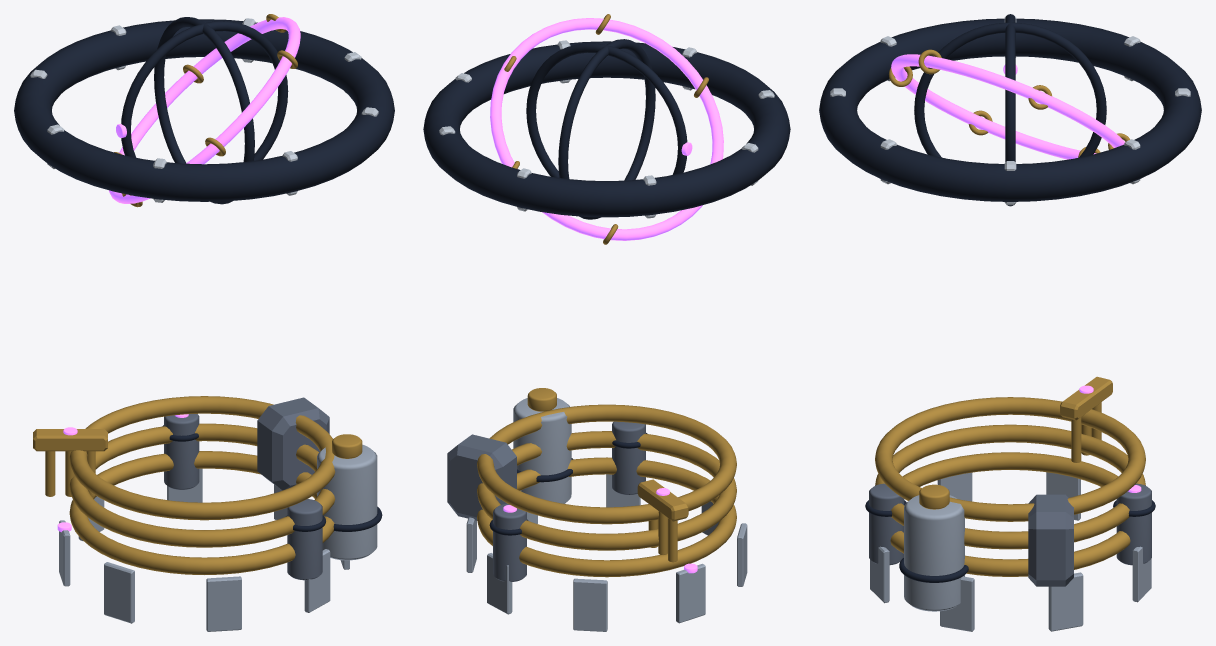
The model's file is tower_singularity_rate_s10.glb.
The picture shows the model from 3 angles, left to right: view 1: azimuth 30°, elevation 25°; view 2: azimuth 150°, elevation 25°; view 3: azimuth 270°, elevation 25°; orthographic projection. The views are drawn at different scales.
Visible parts, largest first — view 1: singularity_horizon_torus, singularity_stem_coil2, singularity_stem_coil1, singularity_stem_coil0, singularity_coolant_tank, singularity_halo_b_ring, singularity_stem_junction, singularity_core_cage_b, singularity_core_cage_c, singularity_stem_cap4.363323129985824, singularity_stem_cap1.9198621771937625, singularity_stem_fin6 (+6 smaller); view 2: singularity_horizon_torus, singularity_stem_coil2, singularity_stem_coil1, singularity_stem_coil0, singularity_halo_b_ring, singularity_coolant_tank, singularity_stem_junction, singularity_core_cage_b, singularity_core_cage_c, singularity_stem_cap1.9198621771937625, singularity_stem_cap4.363323129985824, singularity_stem_fin1 (+7 smaller); view 3: singularity_horizon_torus, singularity_stem_coil2, singularity_stem_coil1, singularity_stem_coil0, singularity_coolant_tank, singularity_halo_b_ring, singularity_stem_junction, singularity_core_cage_c, singularity_stem_cap4.363323129985824, singularity_stem_cap1.9198621771937625, singularity_stem_fin3, singularity_core_cage_b (+8 smaller).
Boxes of the visible parts, bbox=[...] form: singularity_horizon_torus: bbox=[14, 19, 394, 201]; singularity_stem_coil2: bbox=[69, 396, 335, 520]; singularity_stem_coil1: bbox=[69, 423, 335, 547]; singularity_stem_coil0: bbox=[69, 451, 334, 574]; singularity_coolant_tank: bbox=[317, 444, 377, 560]; singularity_halo_b_ring: bbox=[109, 17, 300, 203]; singularity_stem_junction: bbox=[257, 397, 329, 490]; singularity_core_cage_b: bbox=[121, 21, 288, 160]; singularity_core_cage_c: bbox=[154, 17, 254, 204]; singularity_stem_cap4.363323129985824: bbox=[287, 499, 322, 580]; singularity_stem_cap1.9198621771937625: bbox=[164, 414, 199, 489]; singularity_stem_fin6: bbox=[206, 576, 241, 631]; singularity_horizon_torus: bbox=[423, 41, 790, 217]; singularity_stem_coil2: bbox=[477, 404, 736, 524]; singularity_stem_coil1: bbox=[477, 431, 736, 550]; singularity_stem_coil0: bbox=[477, 457, 736, 577]; singularity_halo_b_ring: bbox=[490, 18, 723, 240]; singularity_coolant_tank: bbox=[513, 398, 571, 503]; singularity_stem_junction: bbox=[447, 434, 516, 520]; singularity_core_cage_b: bbox=[526, 43, 687, 177]; singularity_core_cage_c: bbox=[558, 39, 655, 219]; singularity_stem_cap1.9198621771937625: bbox=[493, 503, 526, 581]; singularity_stem_cap4.363323129985824: bbox=[612, 421, 645, 494]; singularity_stem_fin1: bbox=[573, 578, 607, 631]; singularity_horizon_torus: bbox=[819, 18, 1201, 201]; singularity_stem_coil2: bbox=[875, 397, 1145, 521]; singularity_stem_coil1: bbox=[875, 424, 1145, 549]; singularity_stem_coil0: bbox=[890, 452, 1130, 576]; singularity_coolant_tank: bbox=[904, 495, 964, 611]; singularity_halo_b_ring: bbox=[891, 54, 1124, 159]; singularity_stem_junction: bbox=[1028, 494, 1073, 586]; singularity_core_cage_c: bbox=[914, 22, 1106, 157]; singularity_stem_cap4.363323129985824: bbox=[869, 483, 904, 565]; singularity_stem_cap1.9198621771937625: bbox=[1116, 483, 1151, 565]; singularity_stem_fin3: bbox=[1048, 572, 1083, 631]; singularity_core_cage_b: bbox=[1005, 14, 1015, 206].
Size of the model in its own units: 1.51 by 2.39 by 1.51.
